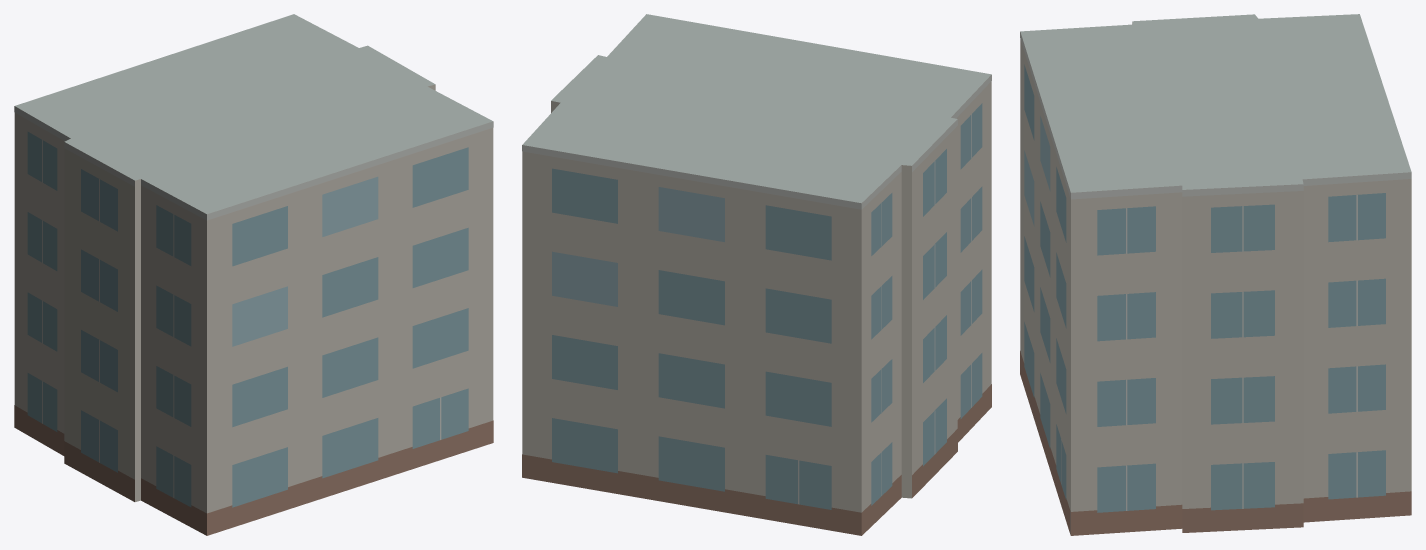
The model's file is survey-upis-32706289.glb.
The picture shows the model from 3 angles, left to right: view 1: azimuth 30°, elevation 25°; view 2: azimuth 150°, elevation 25°; view 3: azimuth 270°, elevation 25°; orthographic projection. The views are drawn at different scales.
Parts seen in each view (by area): view 1: survey-upis-32706289.tmp; view 2: survey-upis-32706289.tmp; view 3: survey-upis-32706289.tmp.
Boxes of the visible parts, box(x1,y1,x2,y2) form: survey-upis-32706289.tmp: box(14, 14, 493, 535); survey-upis-32706289.tmp: box(522, 14, 991, 535); survey-upis-32706289.tmp: box(1020, 14, 1411, 535).
Bounding box in the file's own units: 13.98 × 12.5 × 12.94.
